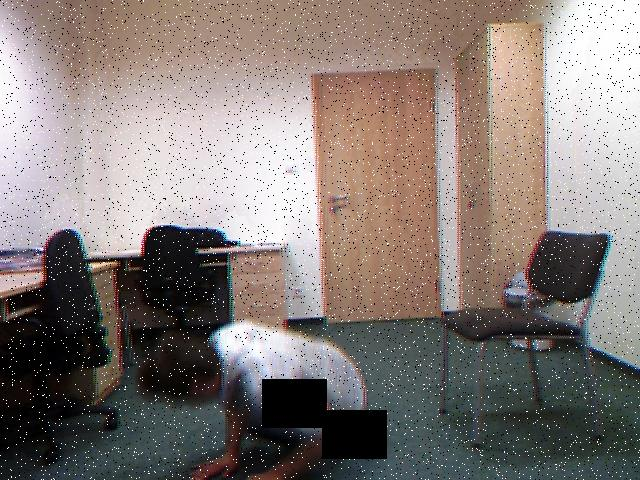fall: (133, 316, 385, 480)
